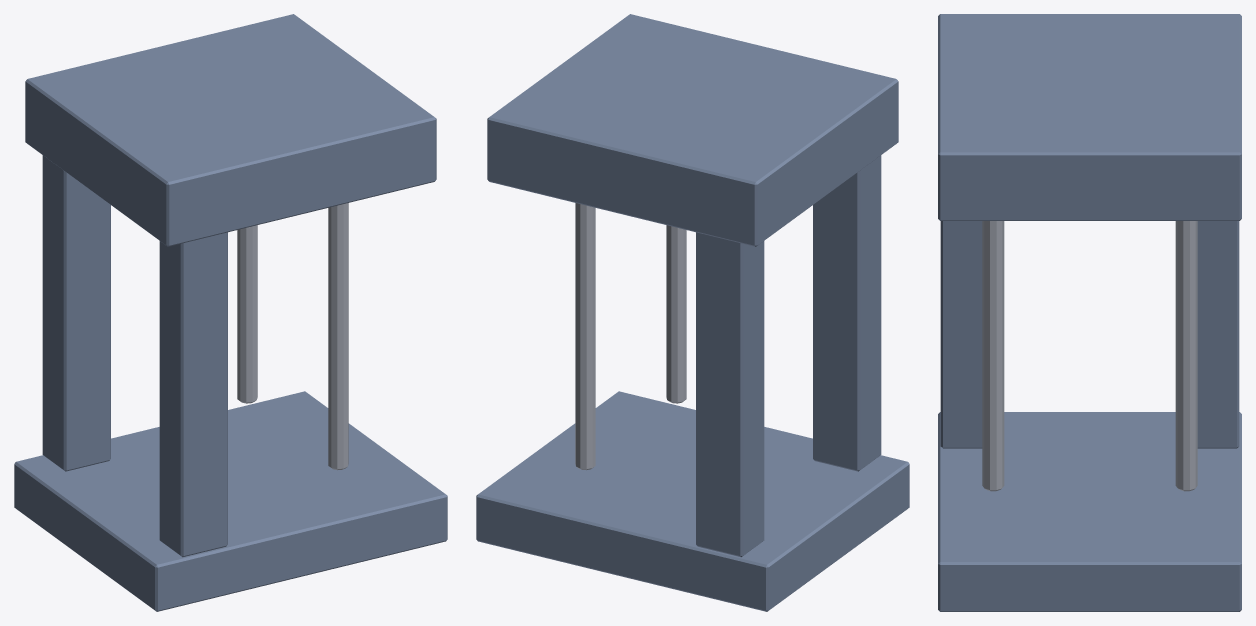
Rendered from pres.glb.
The picture shows the model from 3 angles, left to right: view 1: azimuth 30°, elevation 25°; view 2: azimuth 150°, elevation 25°; view 3: azimuth 270°, elevation 25°; orthographic projection. The views are drawn at different scales.
Parts seen in each view (by area): view 1: Pres; view 2: Pres; view 3: Pres.
Part boxes in pixels (x1,y1,x2,y2): Pres: (14, 14, 447, 611); Pres: (476, 14, 909, 611); Pres: (938, 14, 1241, 611).
Size of the model in its own units: 6.24 by 8.7 by 5.28.
